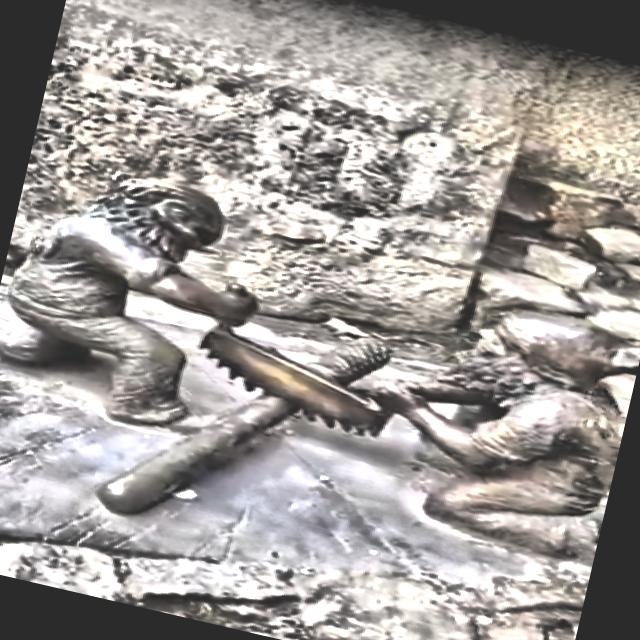Wyrostek i Zadymek: (0, 180, 631, 554)
